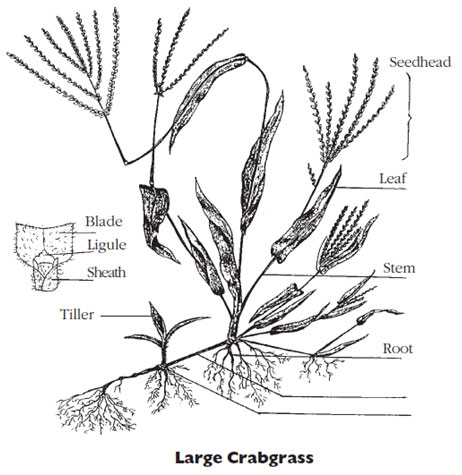crabgrass: (136, 164, 341, 340)
